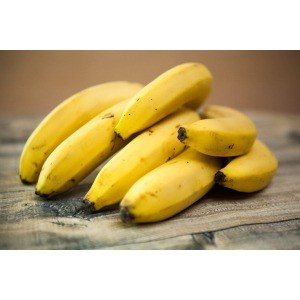banana_brain food: (23, 102, 235, 203)
